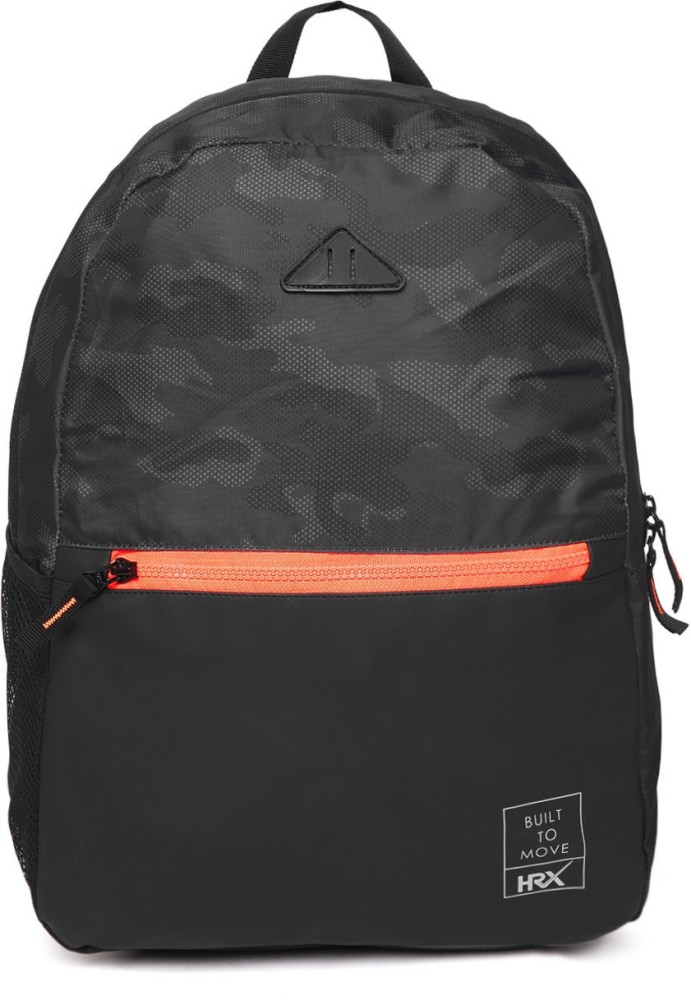backpack: (2, 1, 687, 955)
